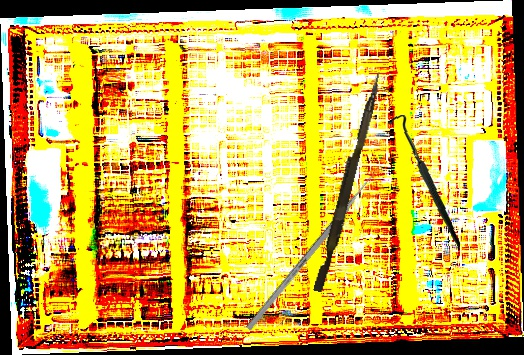Hook Surgical: (381, 114, 467, 246)
Pusher: (245, 161, 385, 332), (313, 69, 383, 294)
